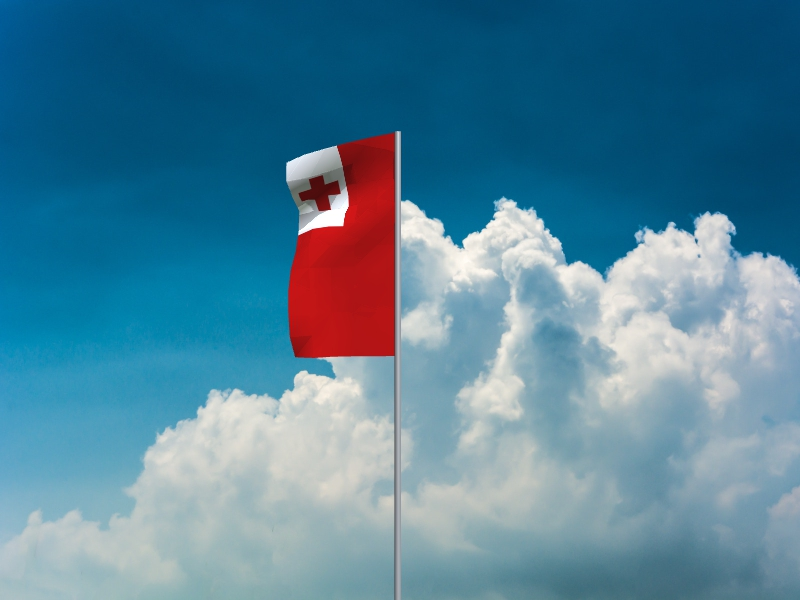to: (285, 133, 395, 359)
